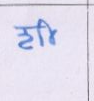i_matra: (39, 19, 57, 45)
